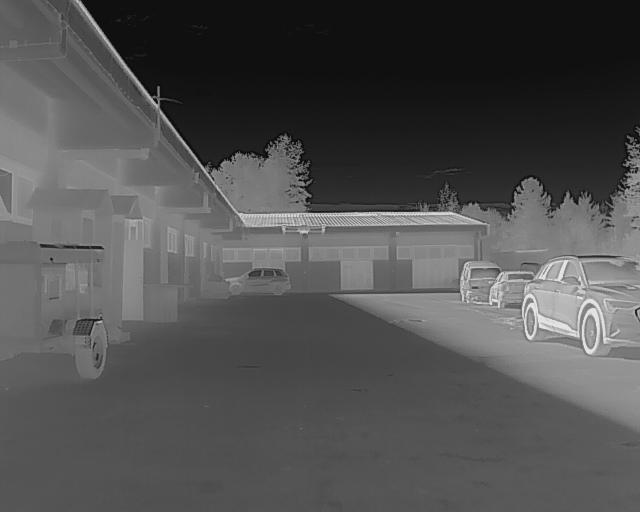drone: (270, 221, 330, 253)
